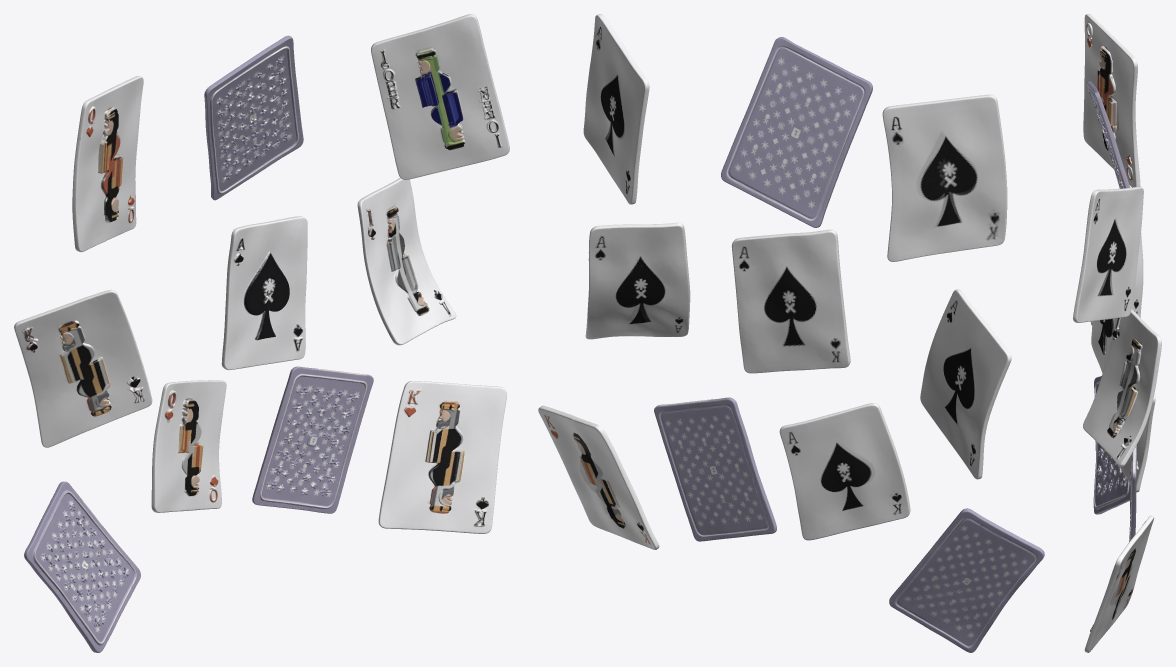
The model's file is 17-بلوت.glb.
The picture shows the model from 3 angles, left to right: view 1: azimuth 30°, elevation 25°; view 2: azimuth 150°, elevation 25°; view 3: azimuth 270°, elevation 25°; orthographic projection. The views are drawn at different scales.
Size of the model in its own units: 1.73 by 1.9 by 0.3043.
Materials: 1 (1 with a texture image).
